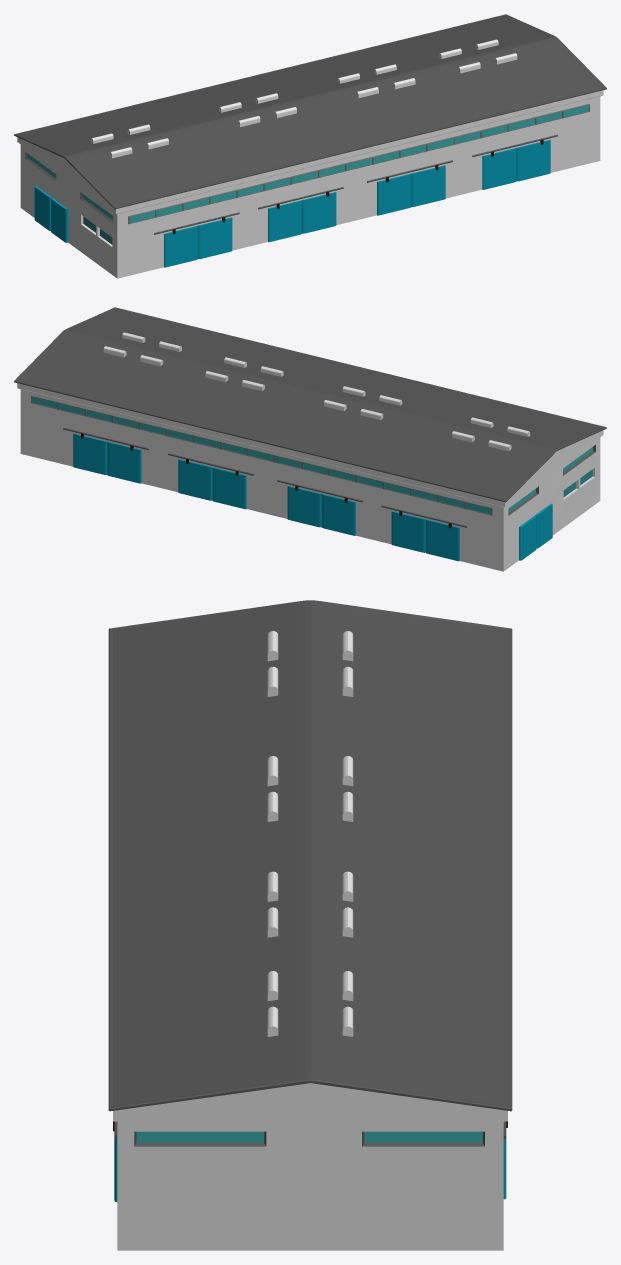
File: bjck6.fbx
3 views of the same model, one above another, from view 1: azimuth 30°, elevation 25°; view 2: azimuth 150°, elevation 25°; view 3: azimuth 270°, elevation 25° (orthographic). The views are drawn at different scales.
Parts seen in each view (by area): view 1: pCube14; view 2: pCube14; view 3: pCube14.
Part boxes in pixels (x1=…): pCube14: x1=14, y1=14, x2=606, y2=278; pCube14: x1=14, y1=307, x2=606, y2=571; pCube14: x1=108, y1=600, x2=512, y2=1250.
Bounding box in the file's own units: 24.31 × 4.25 × 8.63.
